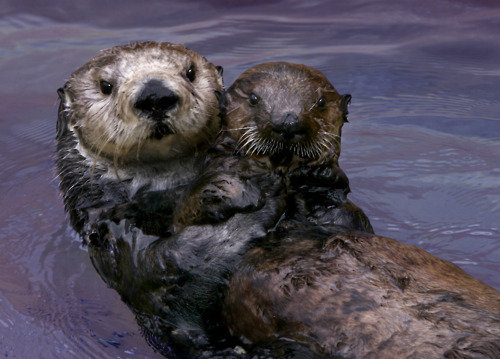otter: (39, 30, 227, 359), (226, 49, 348, 181)
